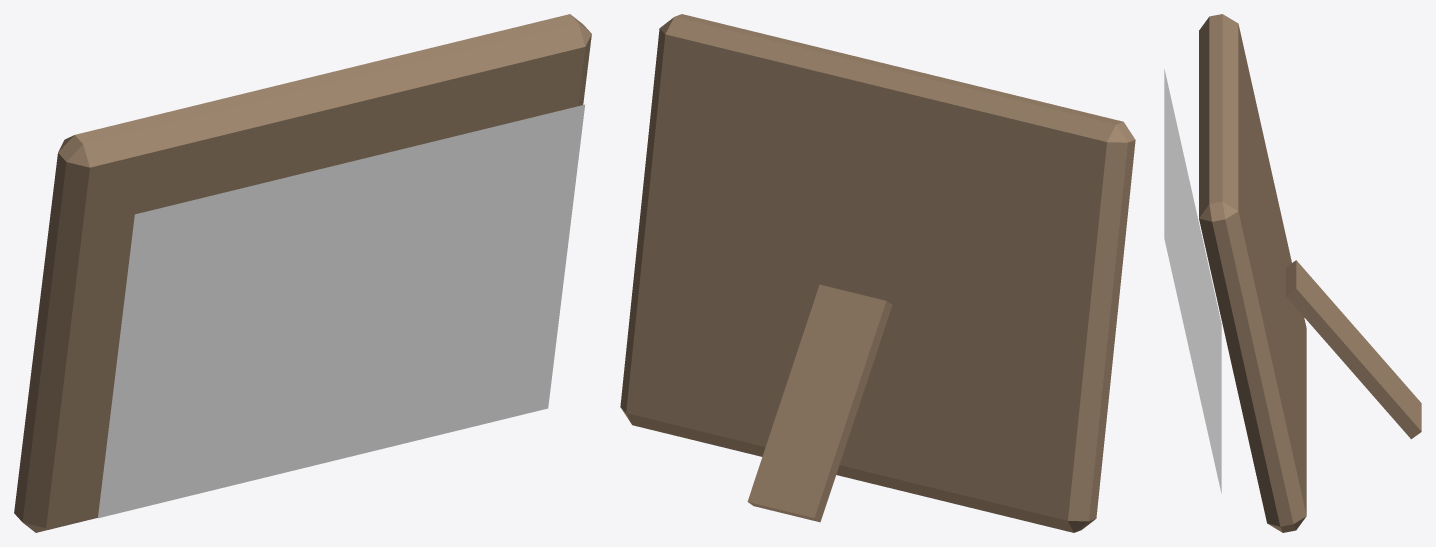
File: porta_retrato.obj
The picture shows the model from 3 angles, left to right: view 1: azimuth 30°, elevation 25°; view 2: azimuth 150°, elevation 25°; view 3: azimuth 270°, elevation 25°; orthographic projection. The views are drawn at different scales.
Visible parts, largest first — view 1: porta_retrato; view 2: porta_retrato; view 3: porta_retrato.
Part boxes in pixels (left/top/right/bottom): porta_retrato: left=14, top=14, right=591, bottom=532; porta_retrato: left=620, top=14, right=1135, bottom=532; porta_retrato: left=1164, top=14, right=1421, bottom=532.
Bounding box in the file's own units: 0.14 × 0.1086 × 0.0765.
